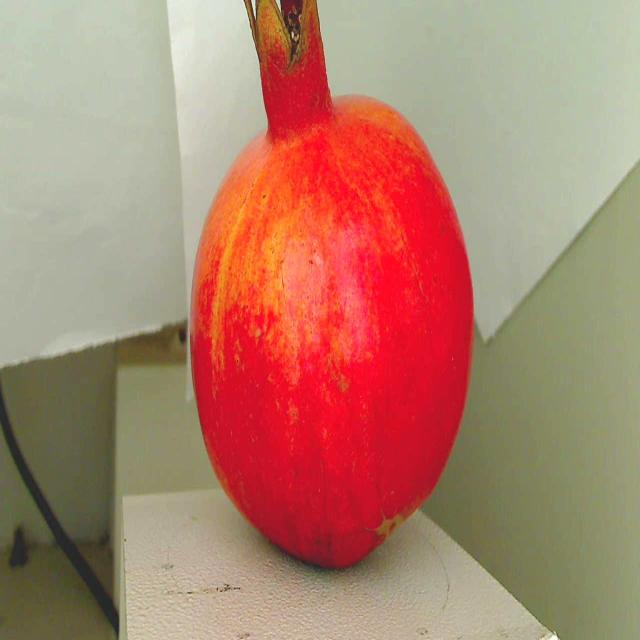pomegranate: (173, 0, 485, 584)
